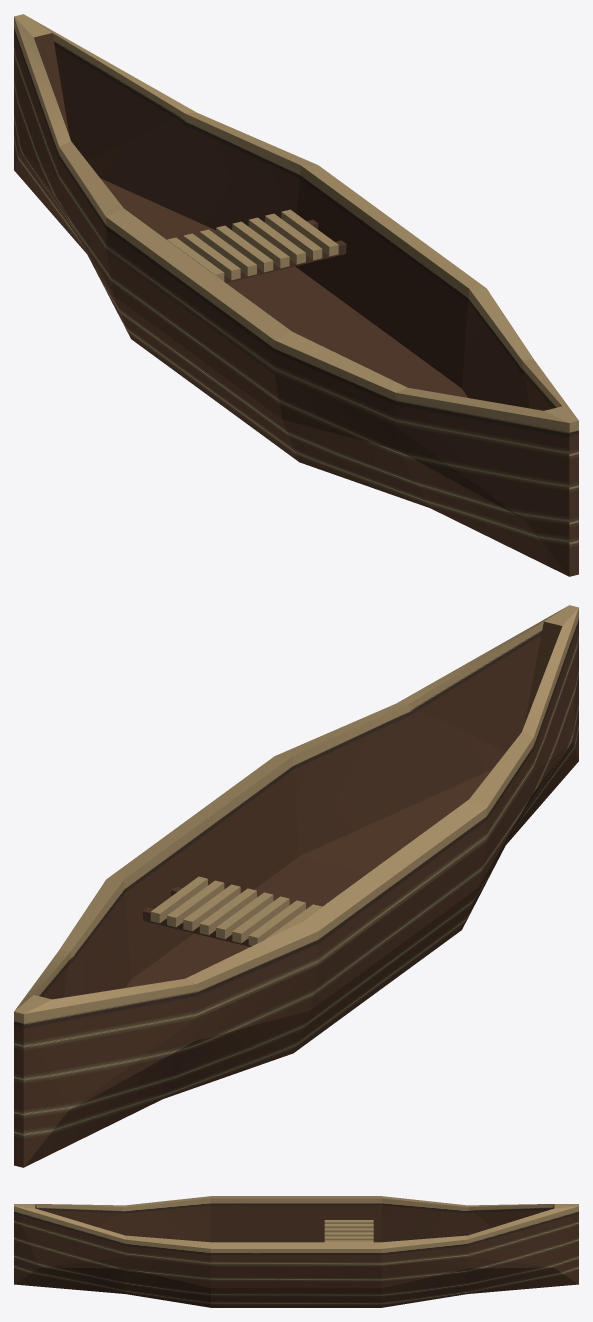
The model's file is Canoe 1.obj.
The picture shows the model from 3 angles, top to bottom: view 1: azimuth 30°, elevation 25°; view 2: azimuth 150°, elevation 25°; view 3: azimuth 270°, elevation 25°; orthographic projection. The views are drawn at different scales.
Visible parts, largest first — view 1: Canoe_1; view 2: Canoe_1; view 3: Canoe_1.
Boxes of the visible parts, x1,y1,x2,y2 form: Canoe_1: (14, 14, 578, 576); Canoe_1: (14, 605, 578, 1167); Canoe_1: (14, 1196, 578, 1307).
Size of the model in its own units: 130 by 95 by 589.
1 material, 1 textured.
